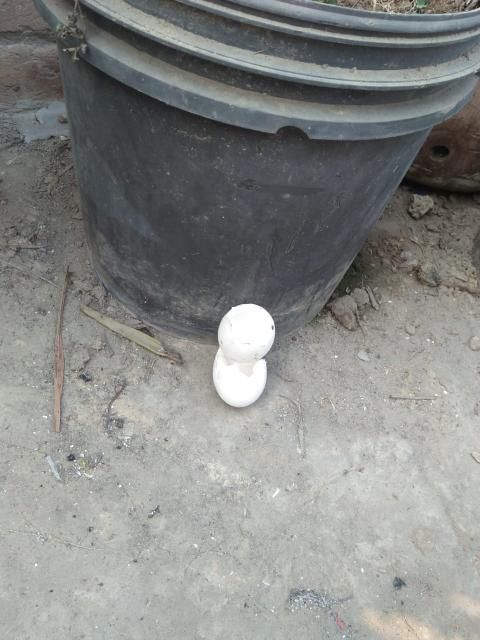Roto: (218, 303, 275, 363), (213, 347, 267, 408)
